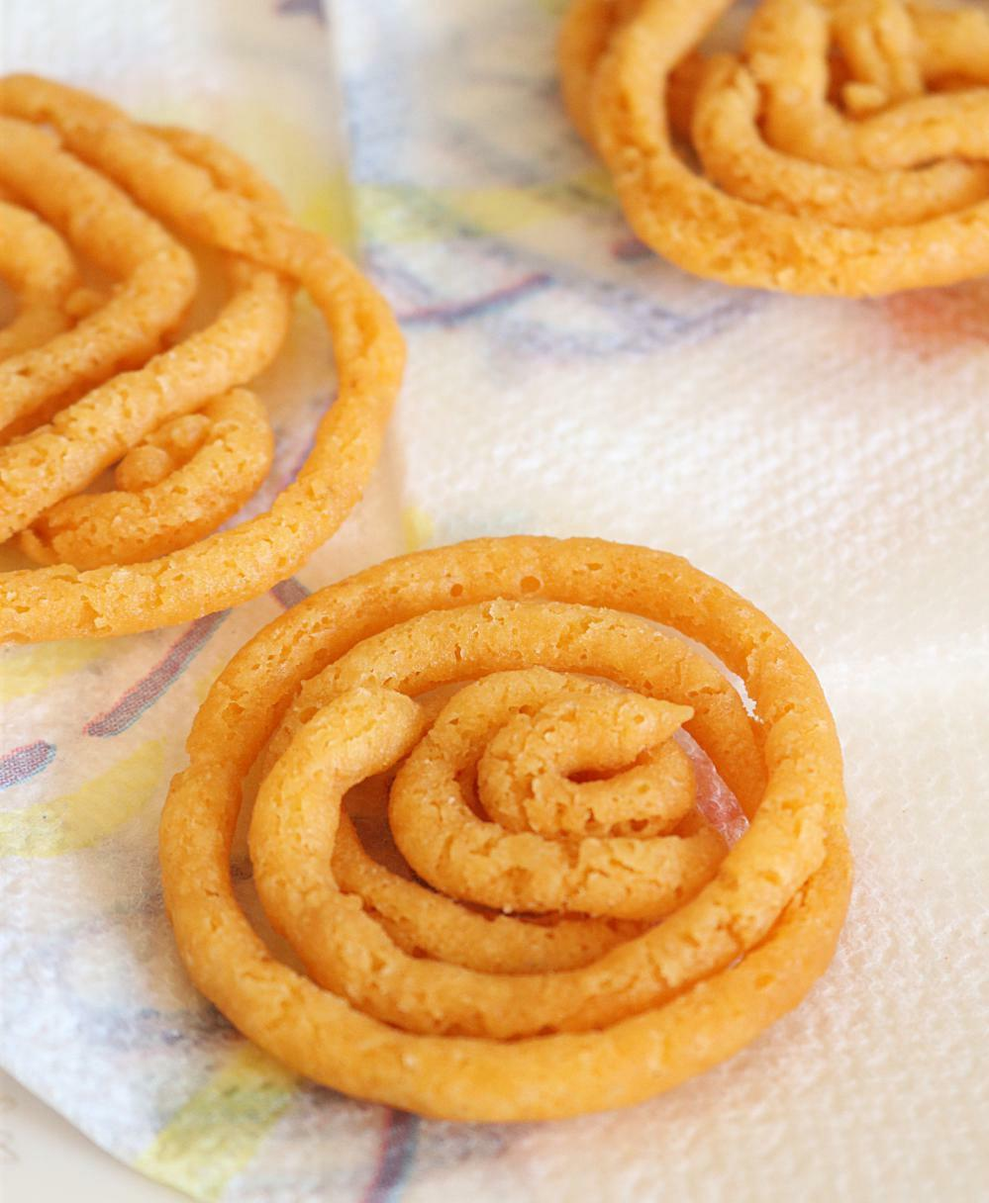Jalebi: (148, 532, 857, 1126), (3, 55, 407, 635), (550, 0, 989, 308)
